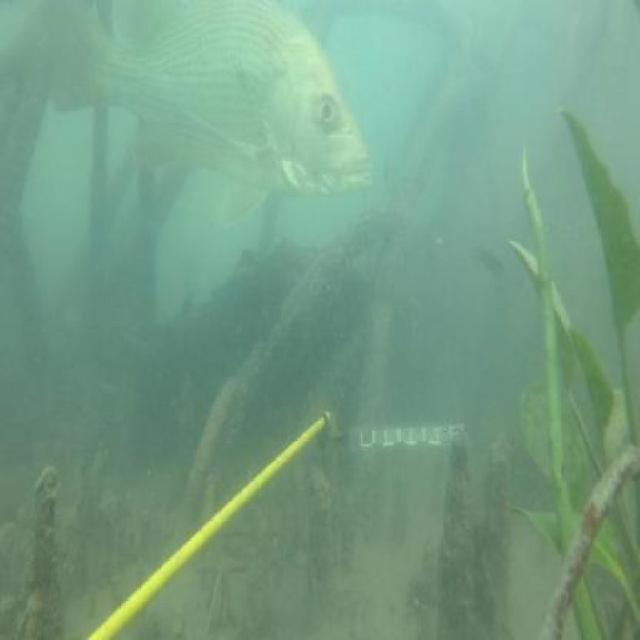lutjanus_johnii: (48, 0, 372, 234)
